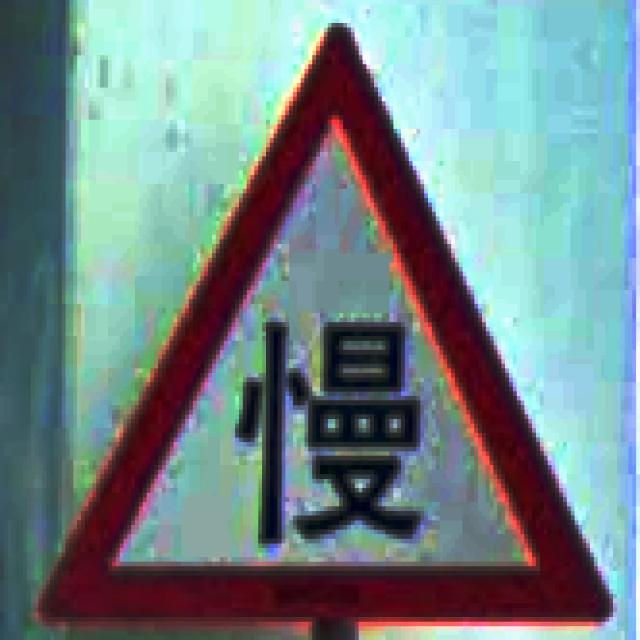slow: (31, 18, 613, 631)
